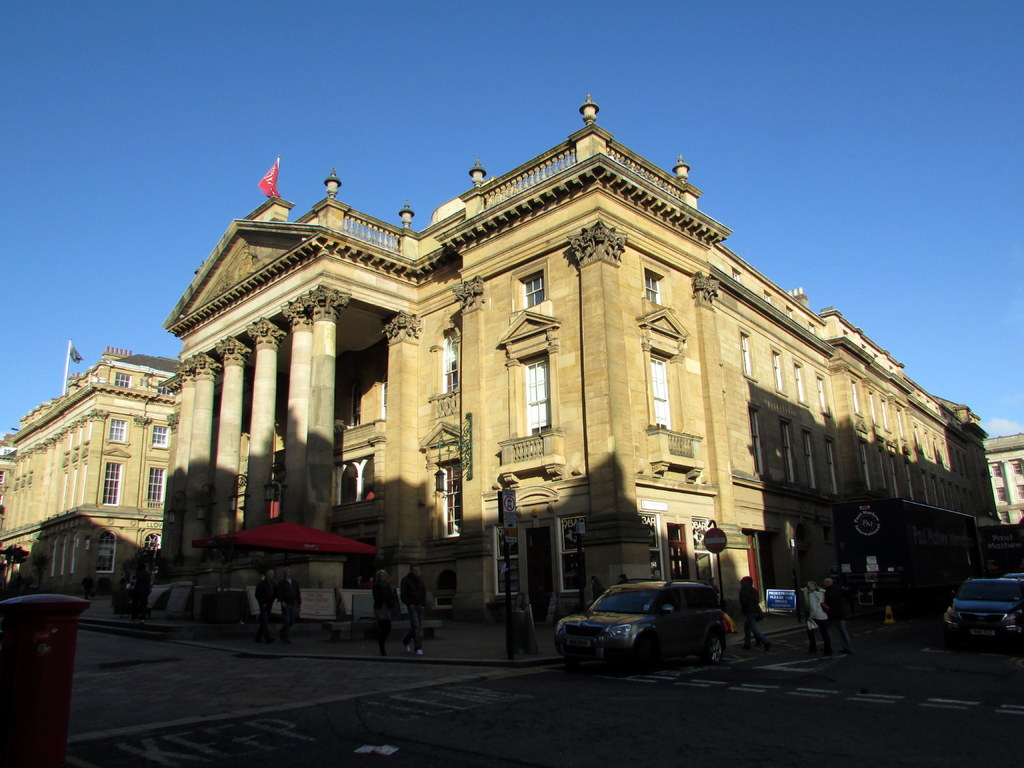car: (527, 561, 754, 689), (929, 559, 1024, 654)
